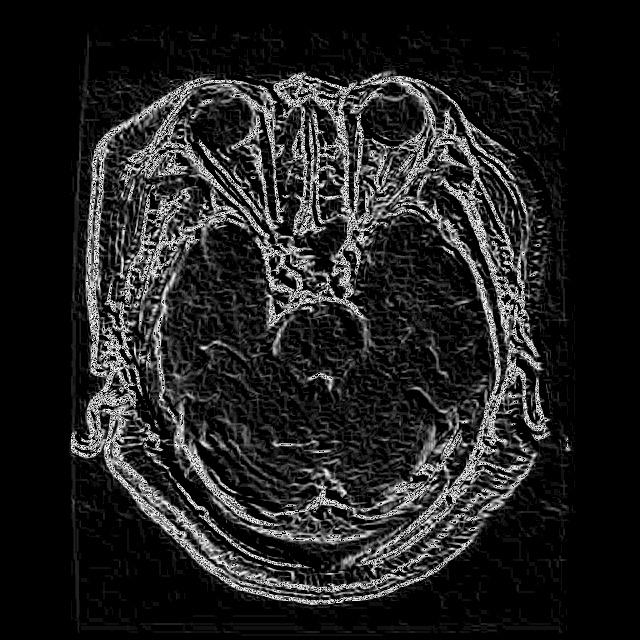Brain-Tumor: (275, 228, 333, 292)
eye: (172, 66, 282, 237), (339, 62, 437, 246)
